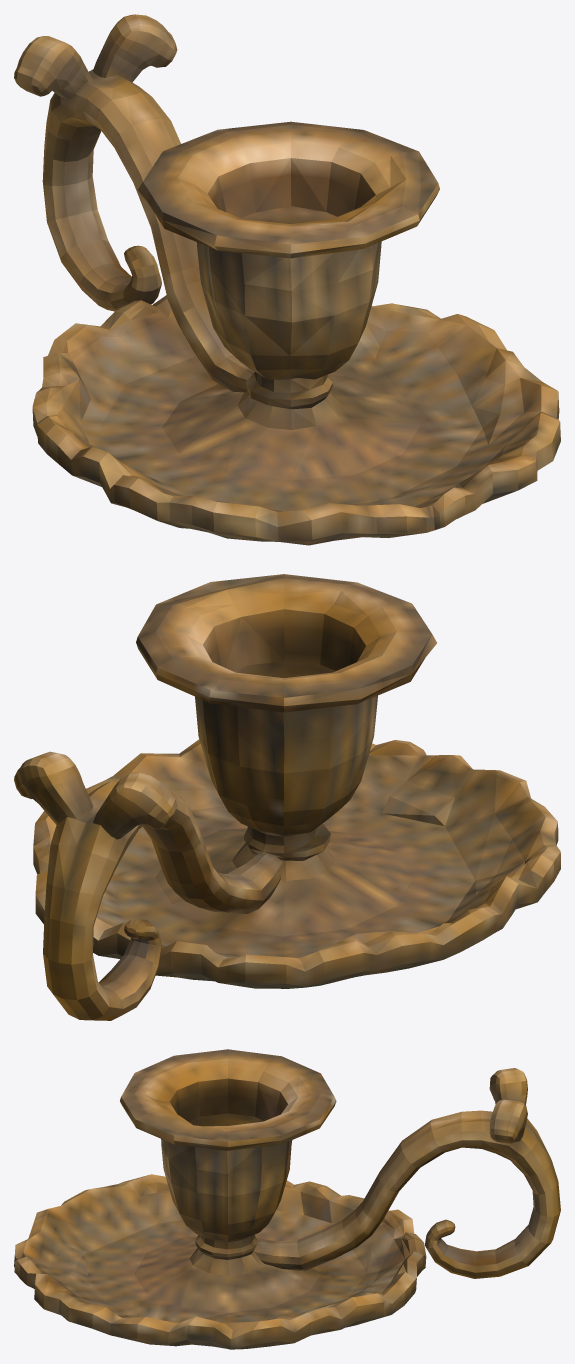
File: Candlestick.fbx
The picture shows the model from 3 angles, top to bottom: view 1: azimuth 30°, elevation 25°; view 2: azimuth 150°, elevation 25°; view 3: azimuth 270°, elevation 25°; orthographic projection. The views are drawn at different scales.
Parts seen in each view (by area): view 1: Candlestick_Low; view 2: Candlestick_Low; view 3: Candlestick_Low.
Boxes of the visible parts, bbox=[...] form: Candlestick_Low: bbox=[14, 14, 560, 545]; Candlestick_Low: bbox=[14, 574, 560, 1020]; Candlestick_Low: bbox=[14, 1049, 560, 1349].
Bounding box in the file's own units: 0.1465 × 0.0853 × 0.2155.
